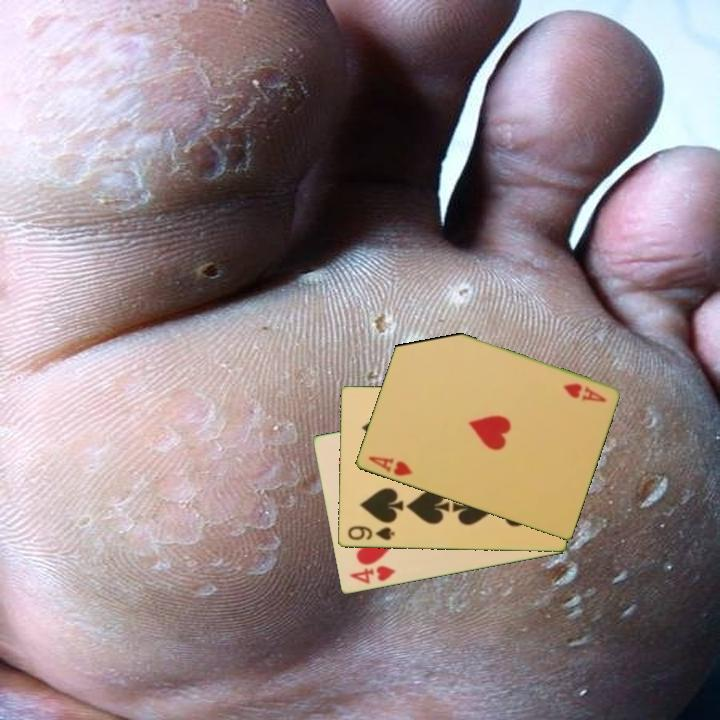4h: (346, 562, 398, 587)
9s: (344, 523, 397, 544)
Ah: (364, 453, 415, 479), (559, 380, 609, 405)
